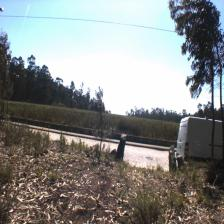trunktrack_idkeyframe: (213, 123, 218, 160), (220, 125, 224, 162)
